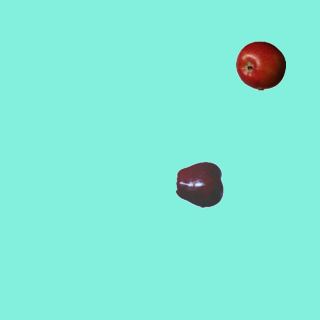Apple Braeburn: (235, 40, 285, 90)
Apple Red Delicious: (175, 159, 225, 209)
